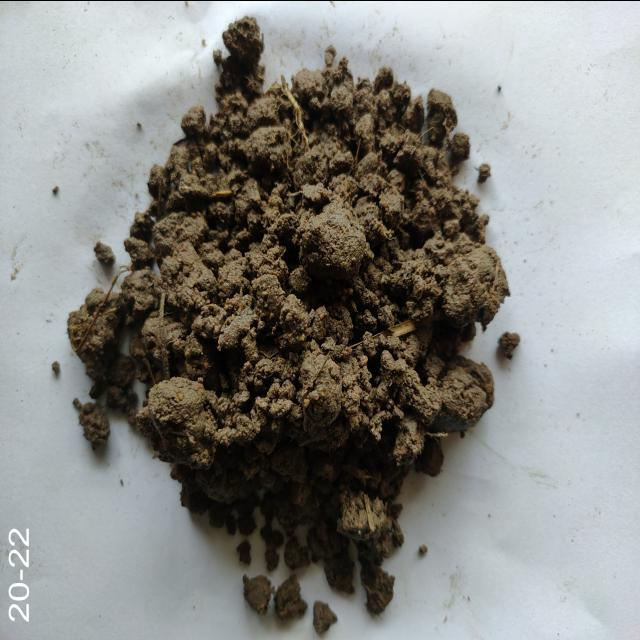soil: (176, 120, 442, 425)
